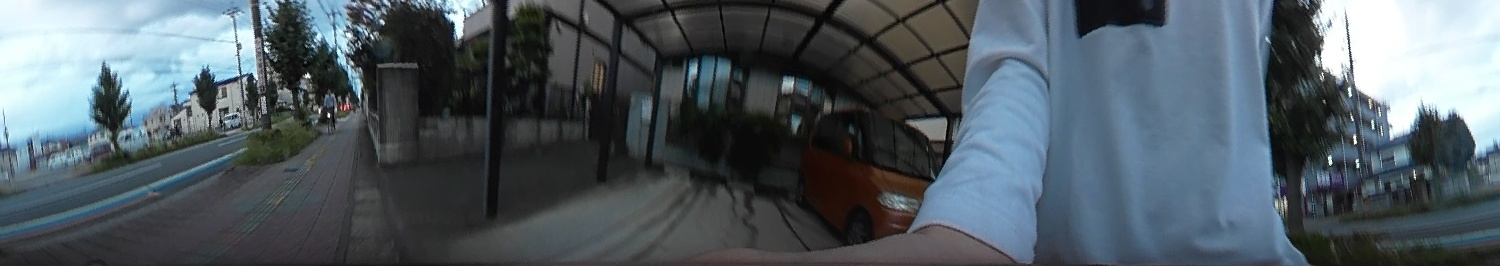difficult_person: (320, 85, 338, 128)
